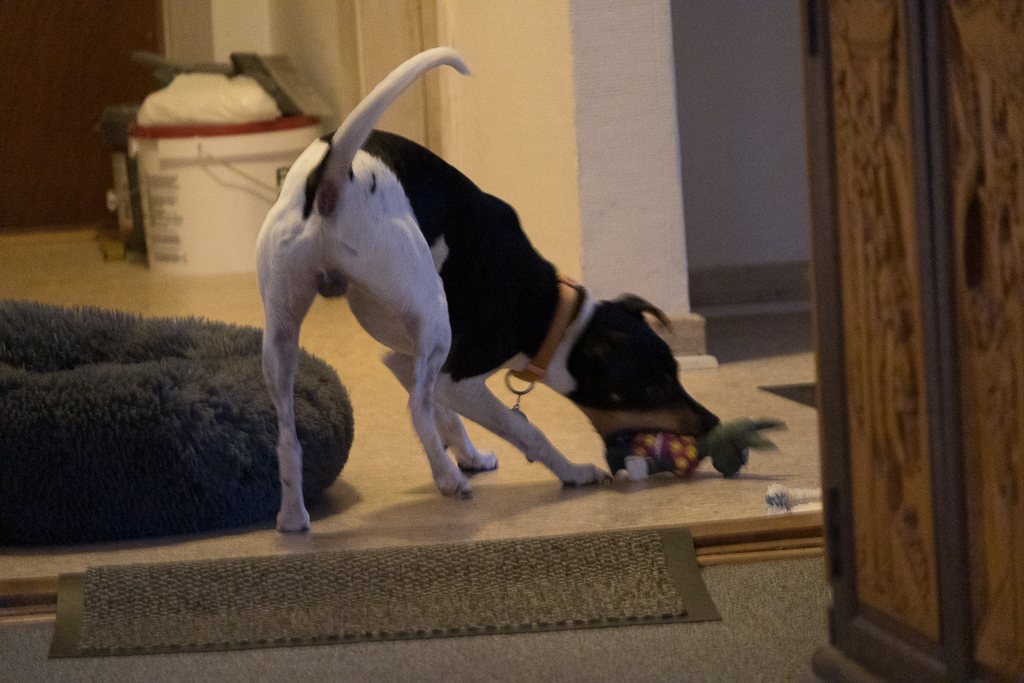Dog: (242, 40, 732, 546)
Humanoid: (594, 409, 798, 485)
